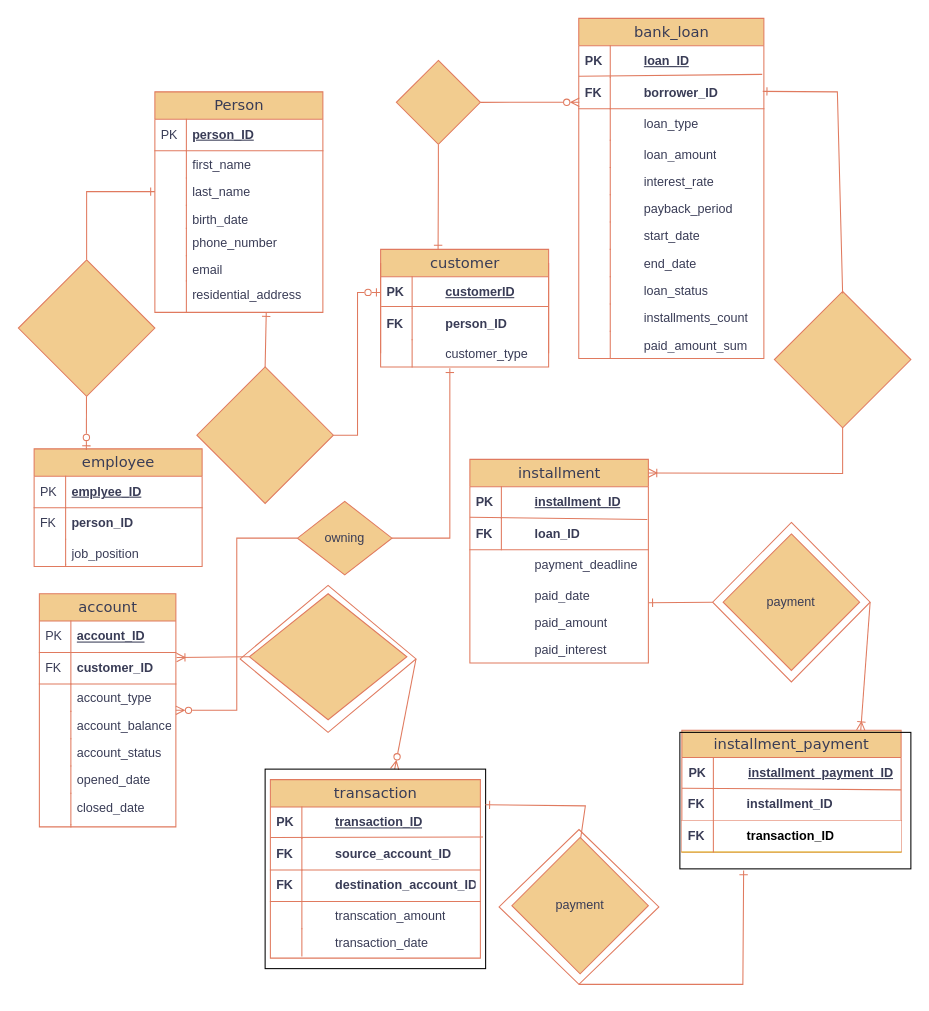
Image size: 929x1011. Some labels were removed from this diagram. The centre of each missing label's shape, as x and y in pixels:
"being_customer" belongs at point 264,434.
"being_employee" belongs at point 86,327.
"get_loan" belongs at point 437,101.
"loan_inst" belongs at point 842,359.
"transactioning" belongs at point 327,656.
